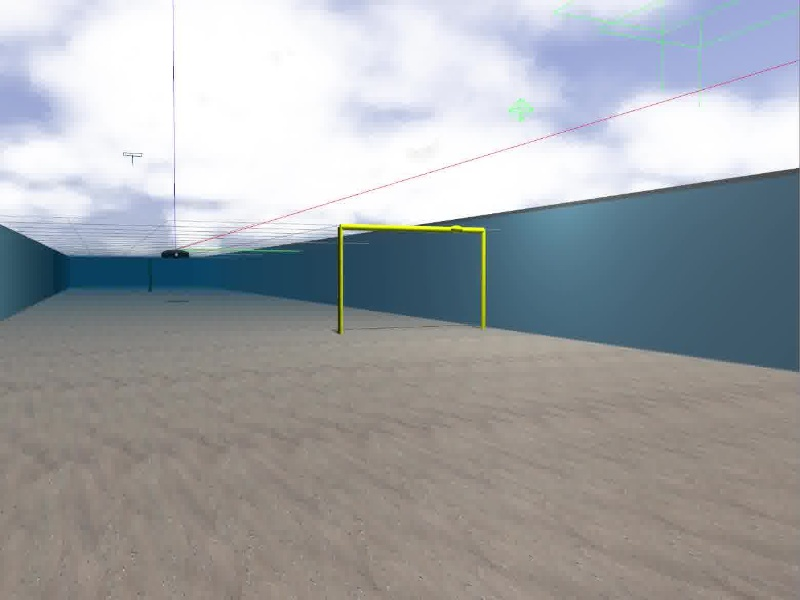gate: (337, 223, 489, 335)
